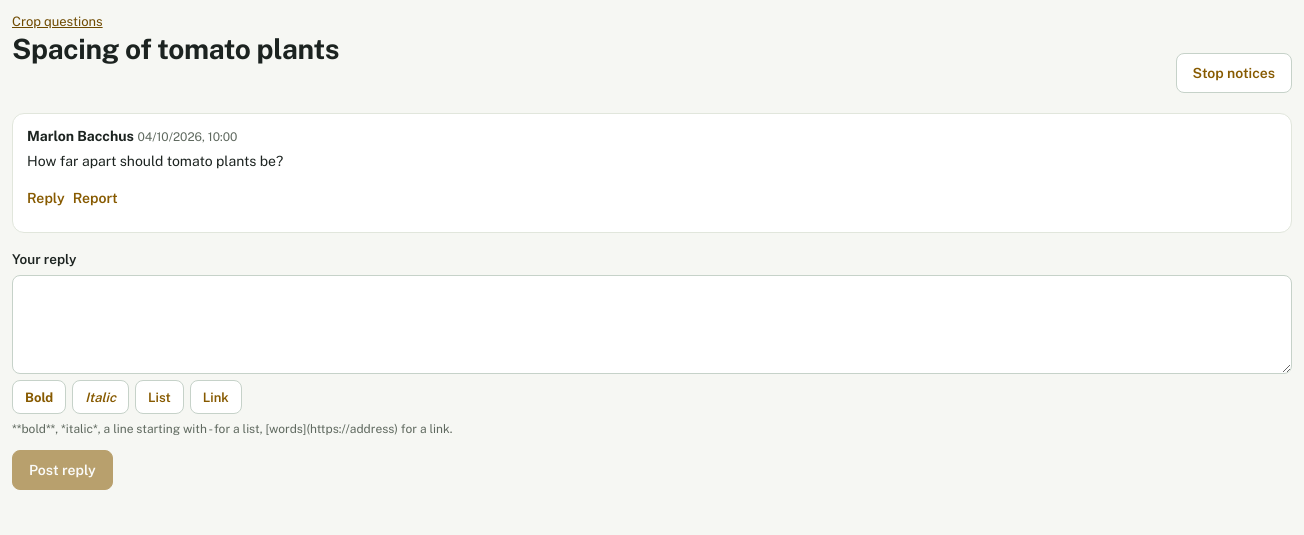
a discussion (items 4.08, 4.09) › asks again for the conduct statement when a new version is in force
This screenshot has width=1304, height=535.
Type "Thanks" into the text box labelled "Your reply" at coordinates (652, 325), box [12, 275, 1292, 374]
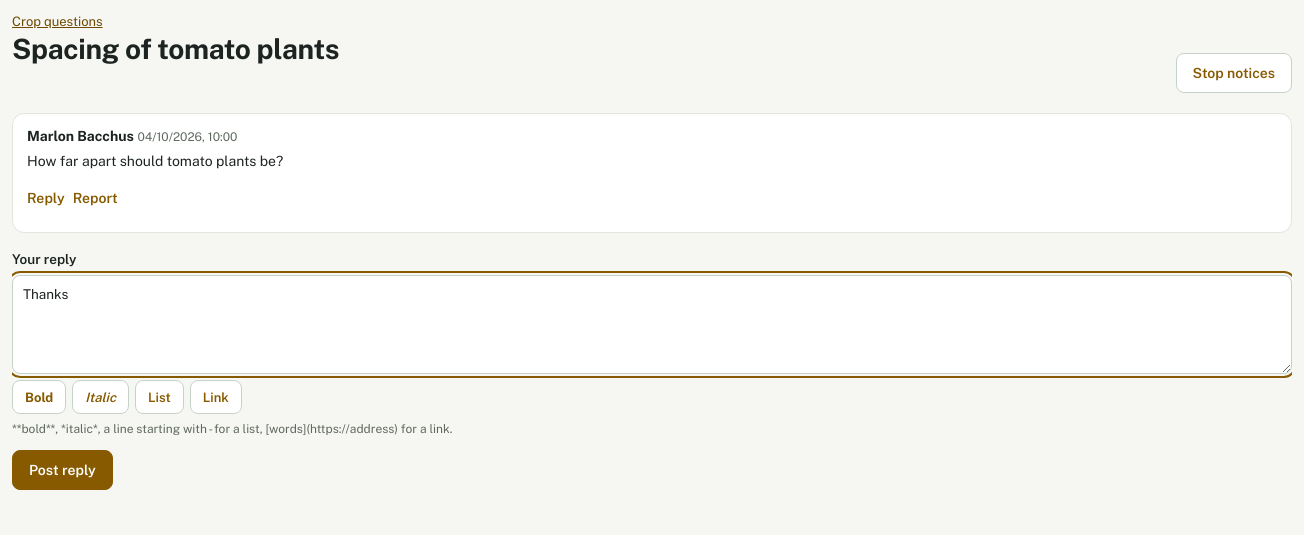
Click the button "Post reply" at coordinates (62, 470), box [12, 450, 113, 490]
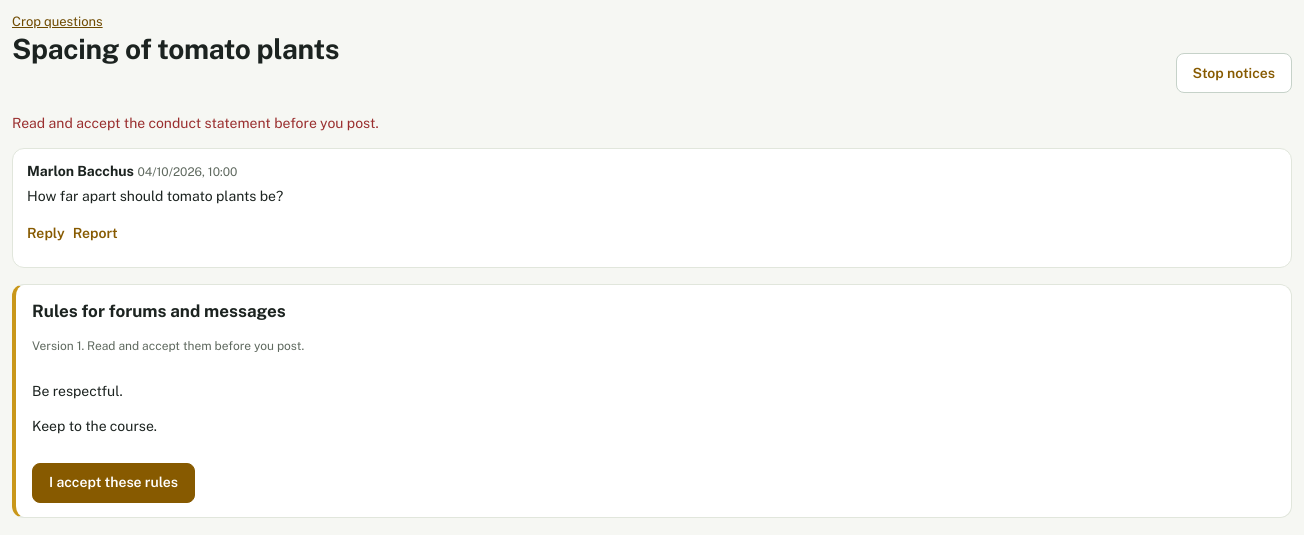
Check: the button "I accept these rules" is shown, box [32, 463, 195, 503]
Check: the message shows "Read and accept the conduct statement", box [12, 115, 378, 131]
